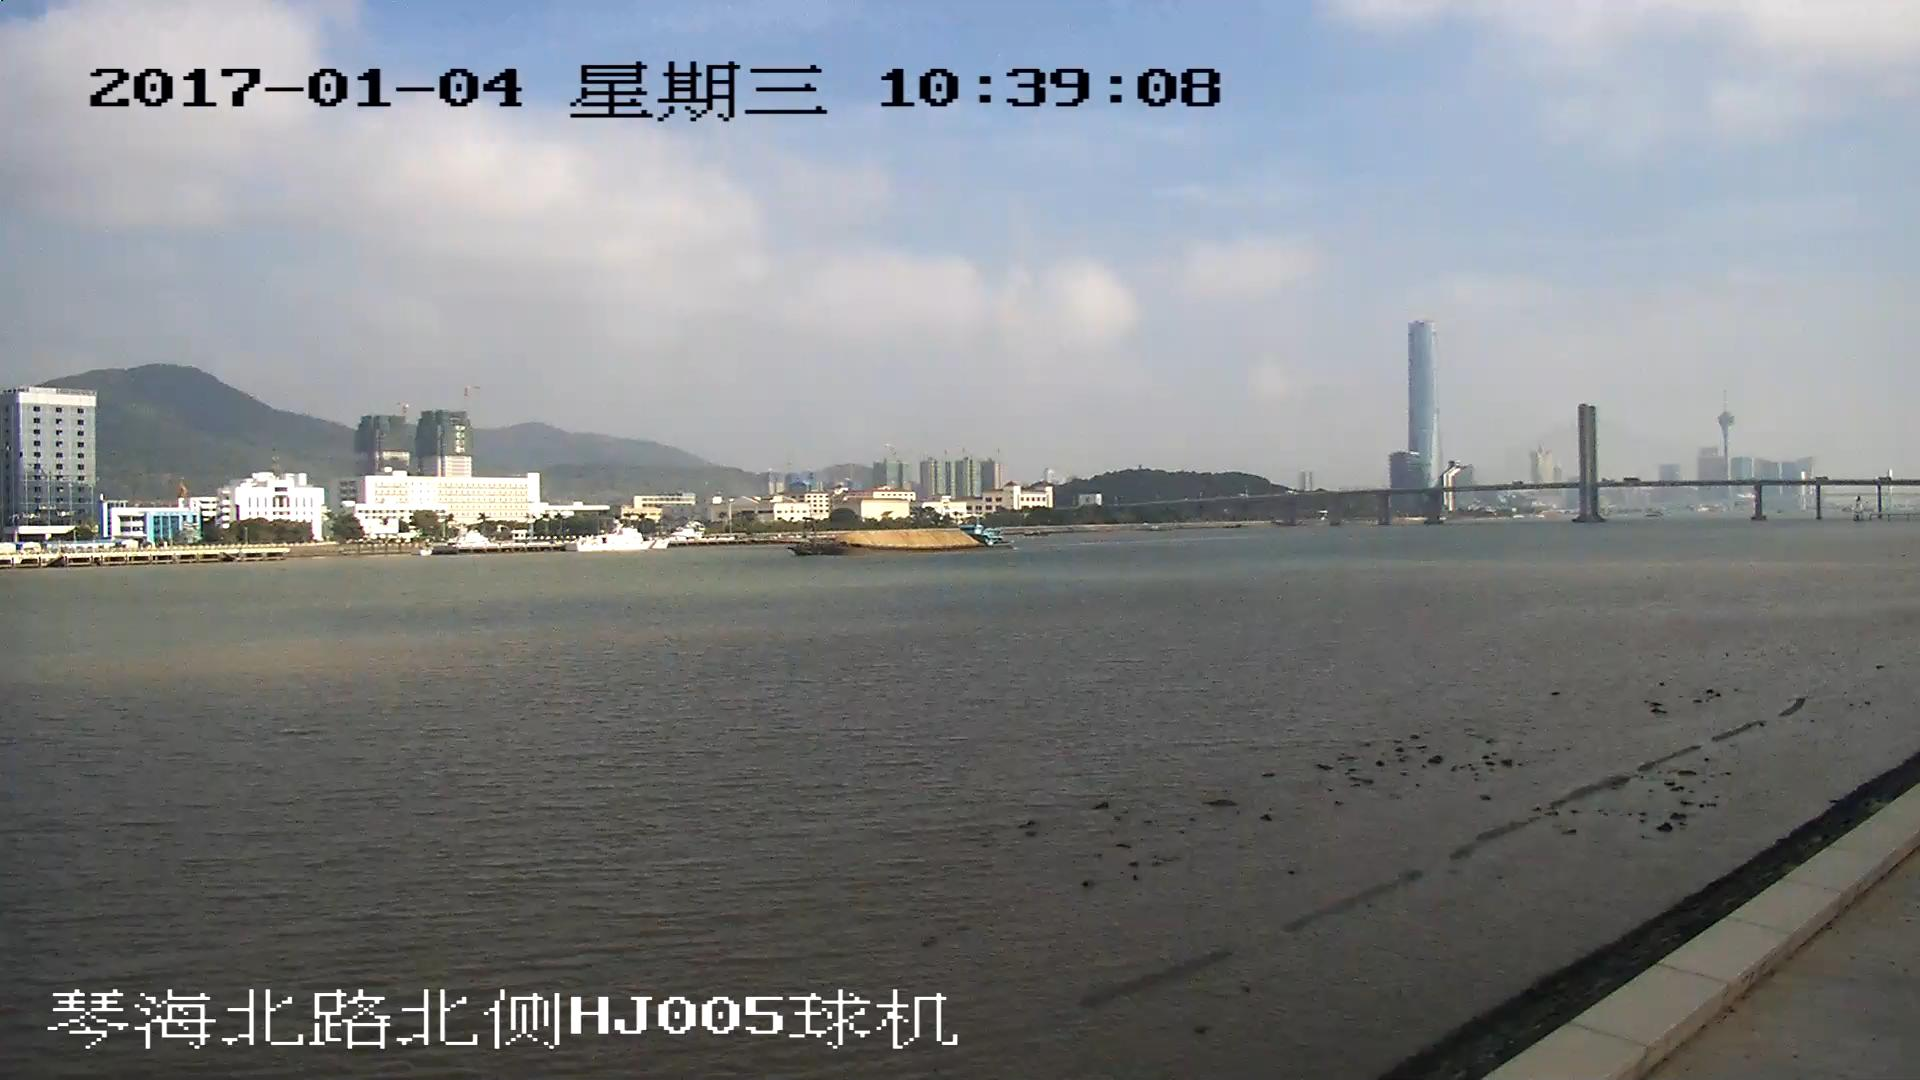ore carrier: (795, 529, 1003, 554)
